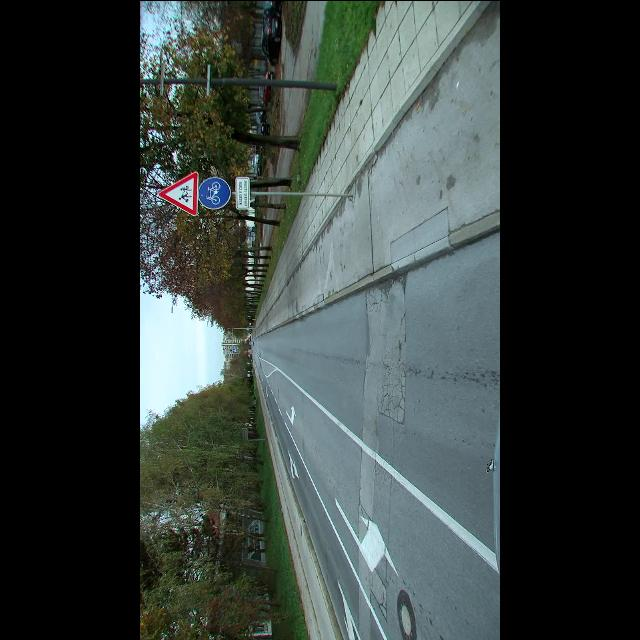Rectangle: (236, 174, 252, 210)
Round: (198, 176, 230, 208)
Triangle: (158, 171, 198, 213)
